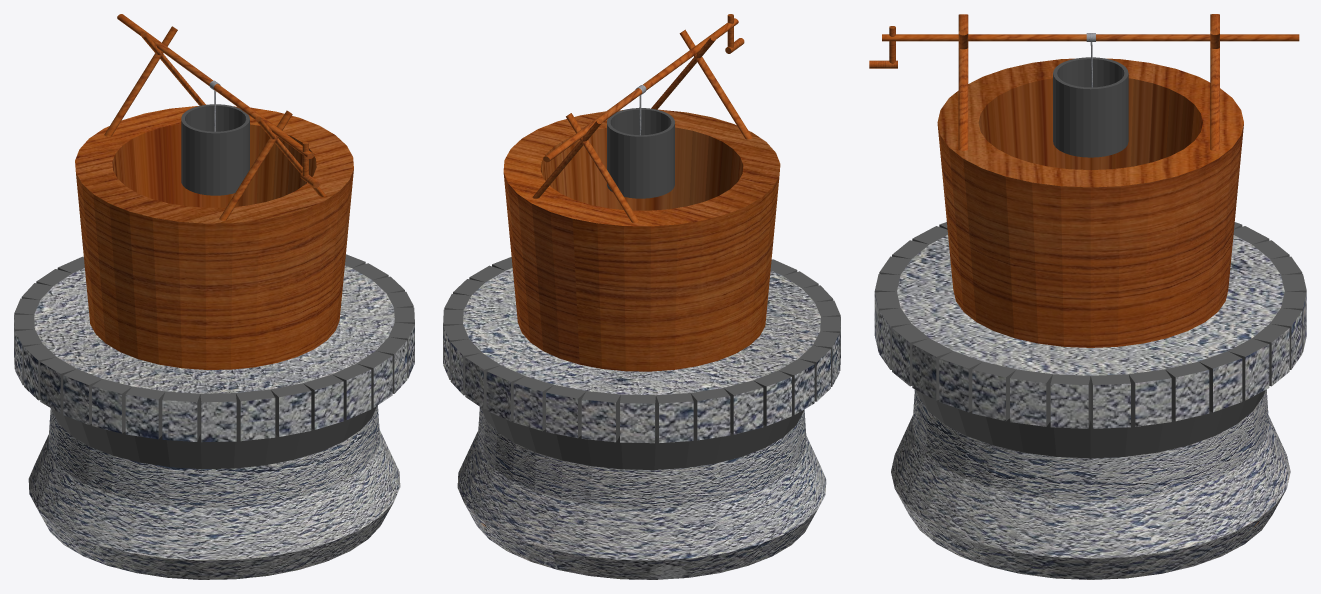
File: Poço.fbx
3 views of the same model, side by side, from view 1: azimuth 30°, elevation 25°; view 2: azimuth 150°, elevation 25°; view 3: azimuth 270°, elevation 25° (orthographic). The views are drawn at different scales.
Parts seen in each view (by area): view 1: Cylinder; view 2: Cylinder; view 3: Cylinder.
Part boxes in pixels (left/top/right/bottom): Cylinder: left=14, top=14, right=414, bottom=579; Cylinder: left=443, top=14, right=840, bottom=579; Cylinder: left=869, top=14, right=1306, bottom=579.
Bounding box in the file's own units: 260 × 309 × 256.
4 materials, 2 textured.
